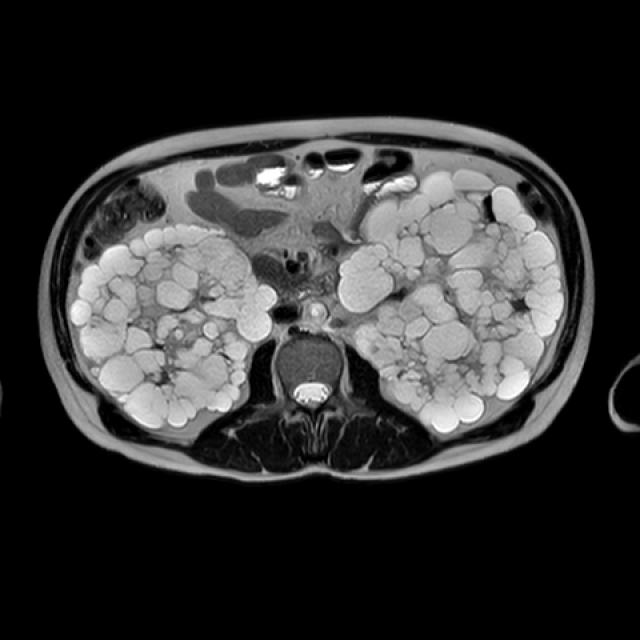sag: (70, 224, 279, 433)
sol: (338, 169, 566, 435)
